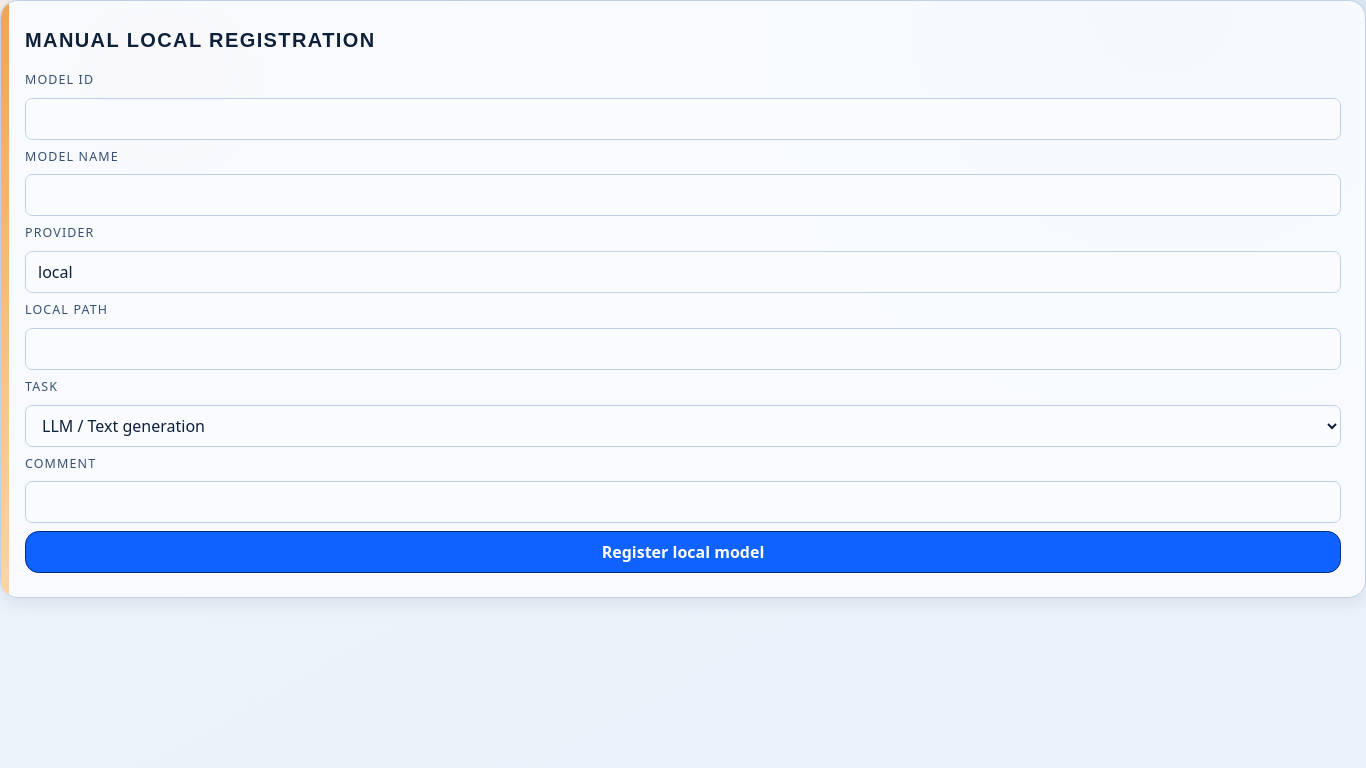
Test: LocalManualRegistrationPanel › keeps the form values and shows the shared error dialog when registration fails
Type "phi-local" into the field labelled "Model id".
click(683, 119); type("phi-local")  # box [25,98,1341,140]
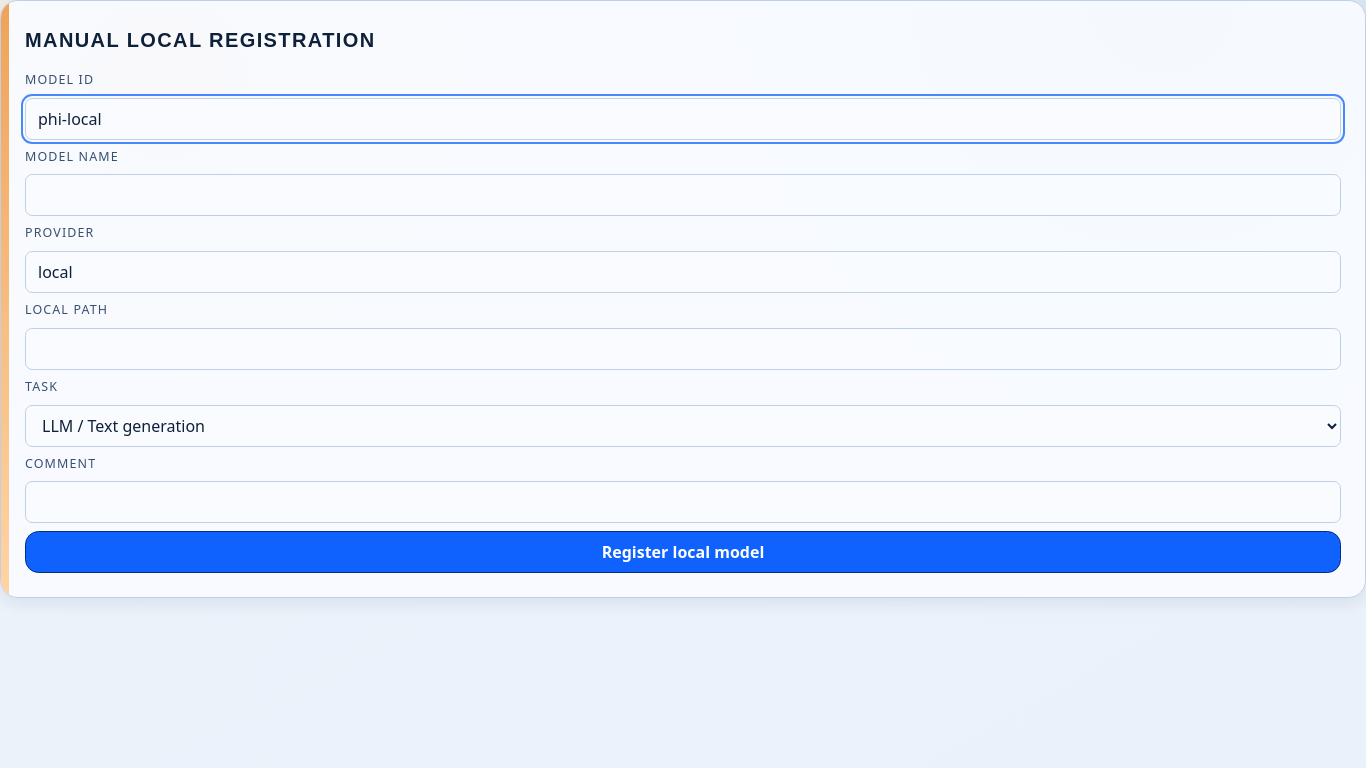
Type "Phi Local" into the field labelled "Model name".
click(683, 195); type("Phi Local")  # box [25,174,1341,216]
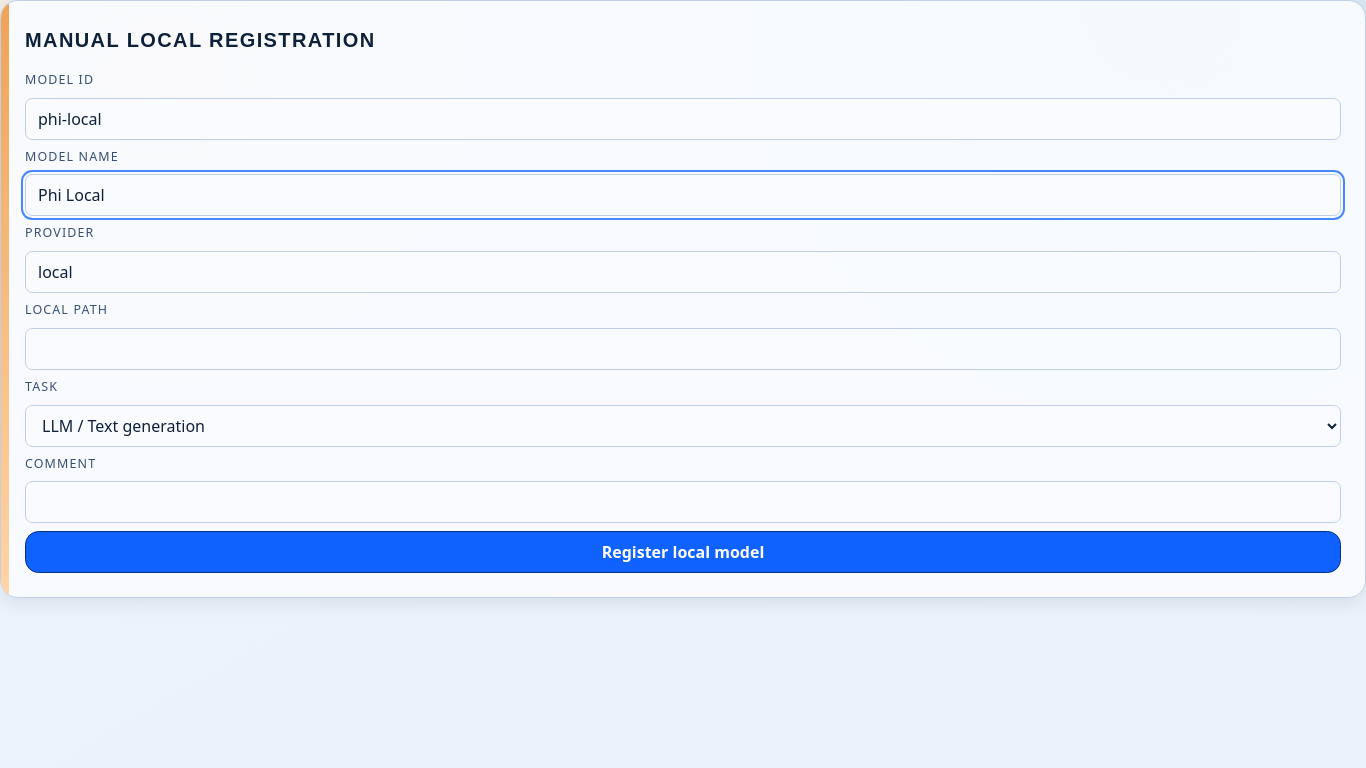
Click the button "Register local model".
click(683, 552)  # box [25,531,1341,573]
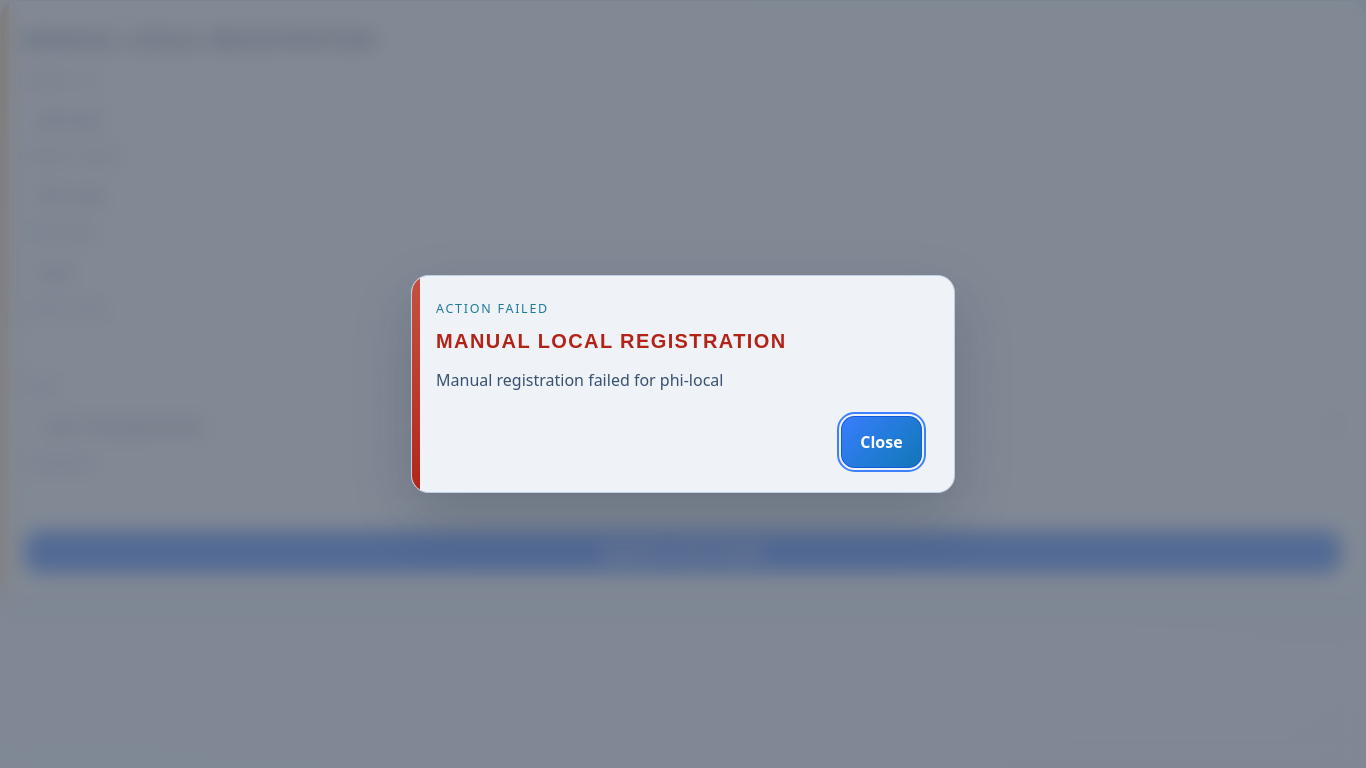
expect the dialog "Manual local registration" is shown: met, box [411,274,955,493]
expect the text "Manual registration failed for phi-local" is shown: met, box [436,369,724,391]
